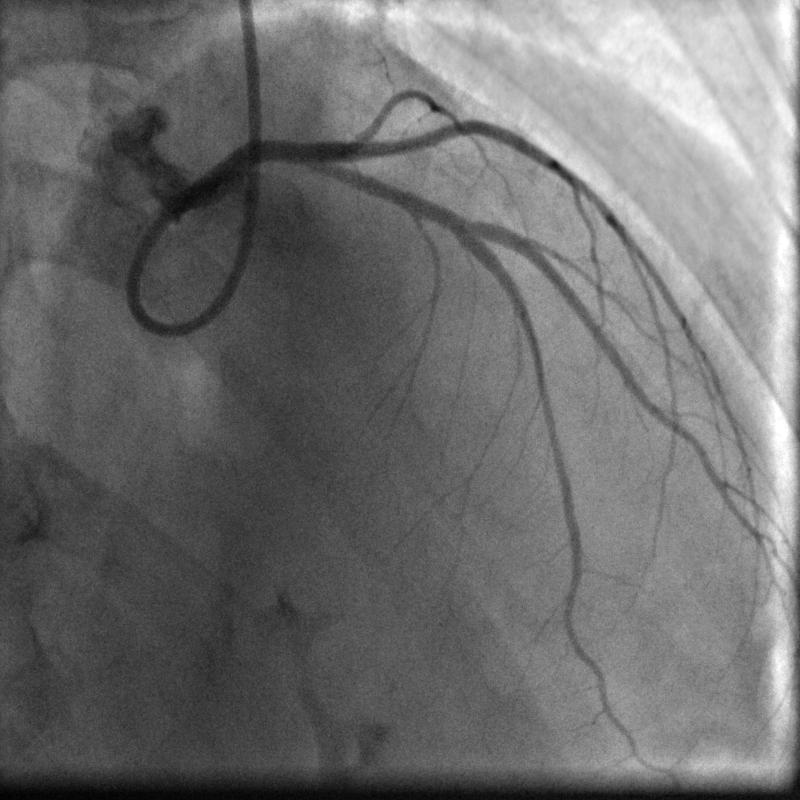Stenosis: (447, 203, 470, 242)
